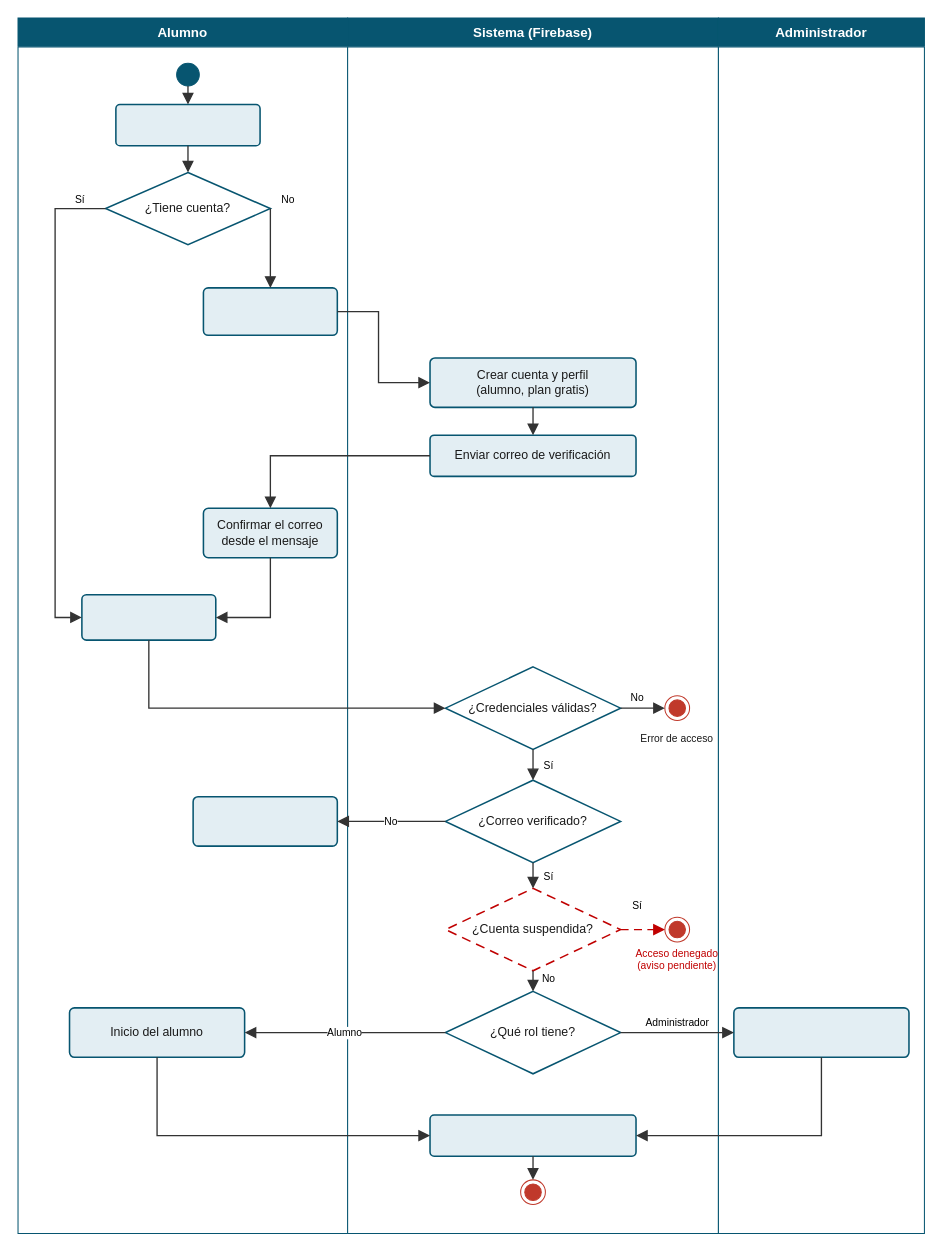
This 942x1251 diagram has some shape labels left out. The shapes that lost their labels are listed below. From the top down, each one's box as (x1, y1, x2, y2) in pixels, then its label:
(115, 103, 260, 146): Abrir la plataforma
(202, 287, 338, 336): Registrarse con correo o Google
(81, 594, 216, 640): Iniciar sesión
(192, 795, 338, 846): Confirmar el correo y volver a iniciar sesión
(733, 1007, 909, 1058): Panel de administración
(429, 1114, 636, 1156): Cerrar sesión
